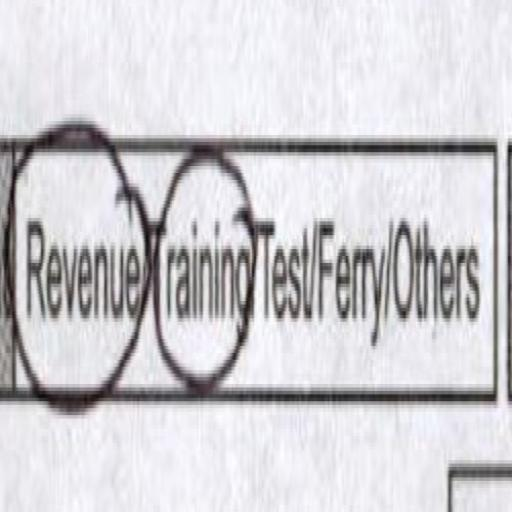check: (16, 89, 143, 463), (150, 90, 260, 444)
